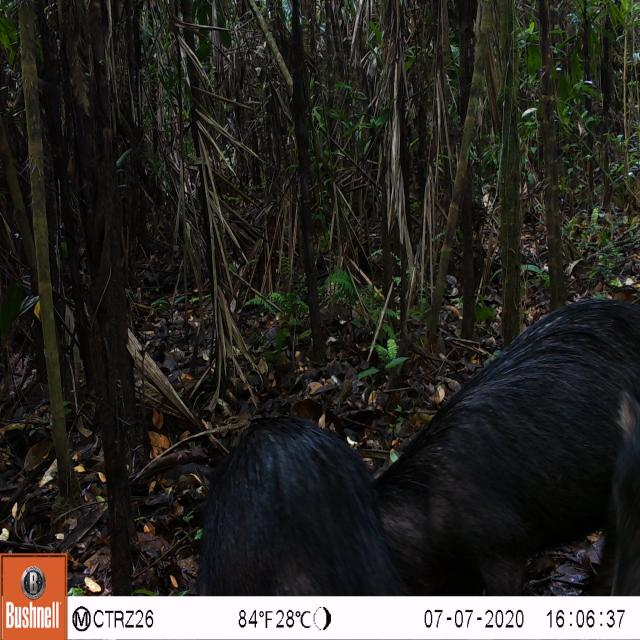White-lipped Peccary: (373, 297, 640, 592), (194, 414, 398, 594)
